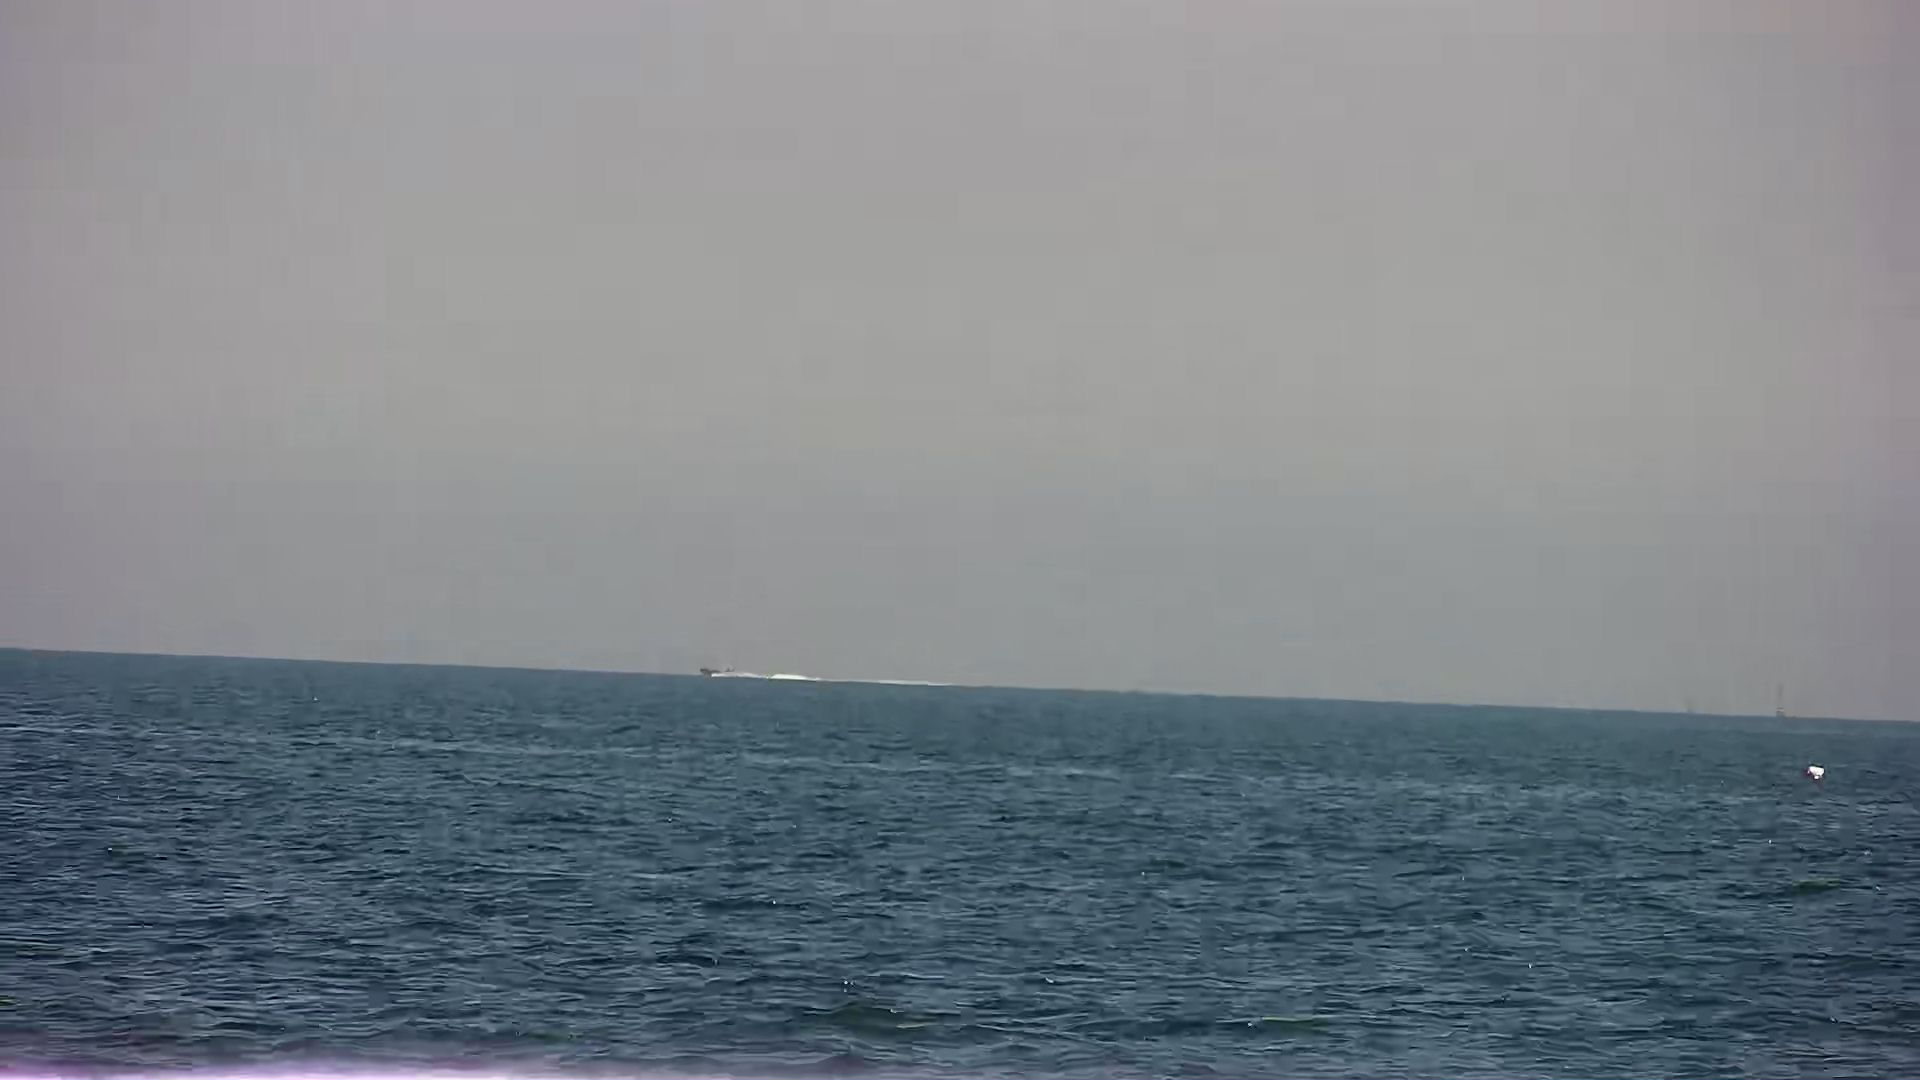rubbish: (1799, 756, 1829, 785)
